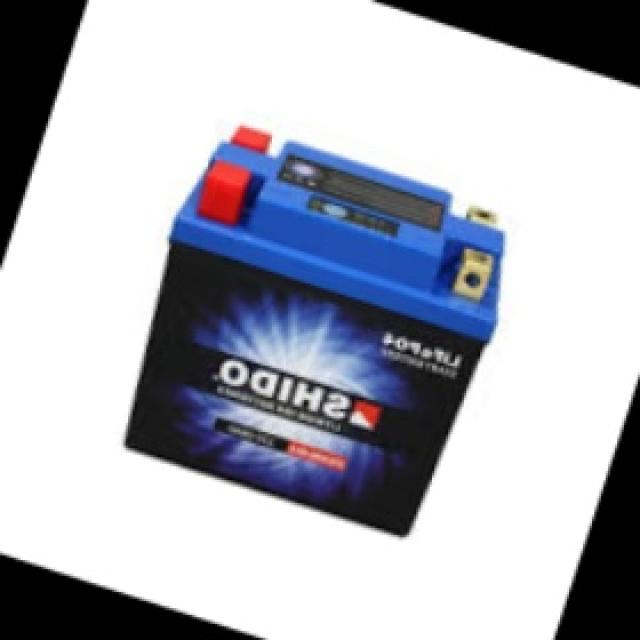elektronik: (122, 128, 510, 534)
